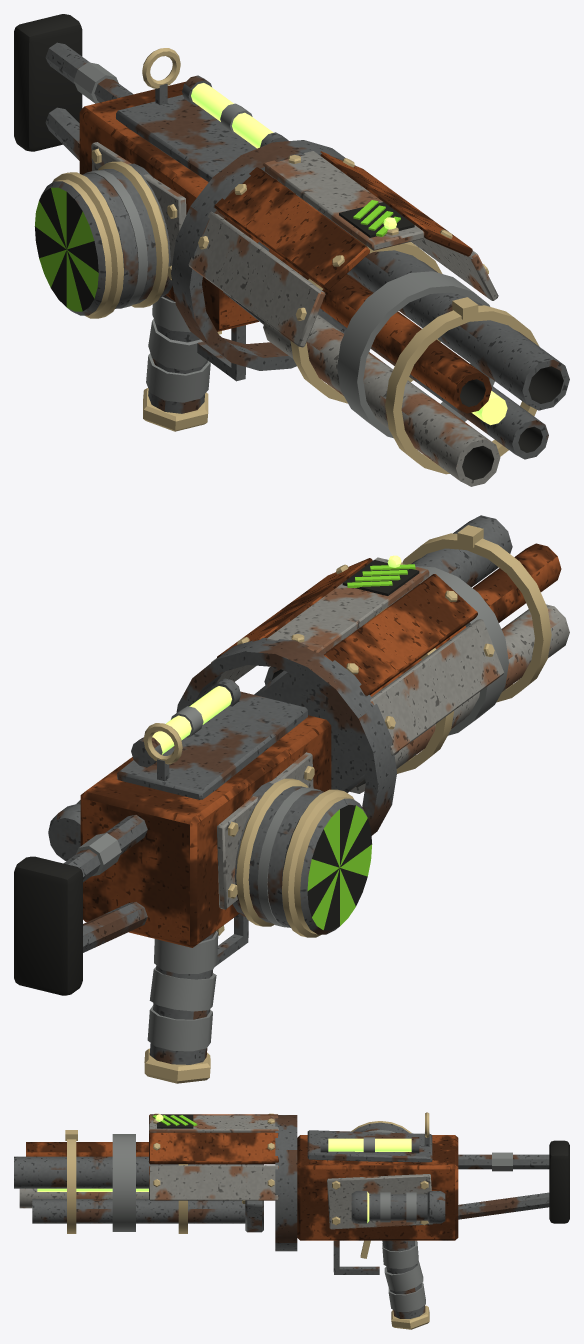
The model's file is scrap-punk-wildspark-set.glb.
The picture shows the model from 3 angles, top to bottom: view 1: azimuth 30°, elevation 25°; view 2: azimuth 150°, elevation 25°; view 3: azimuth 270°, elevation 25°; orthographic projection. The views are drawn at different scales.
Visible parts, largest first — view 1: WildsparkRepeaterReceiver, WildsparkRotor; view 2: WildsparkRepeaterReceiver, WildsparkRotor; view 3: WildsparkRepeaterReceiver, WildsparkRotor.
Part boxes in pixels (<box>): WildsparkRepeaterReceiver: <box>14,14,498,431</box>; WildsparkRotor: <box>223,194,569,486</box>; WildsparkRepeaterReceiver: <box>14,555,503,1083</box>; WildsparkRotor: <box>254,515,569,793</box>; WildsparkRepeaterReceiver: <box>149,1112,569,1329</box>; WildsparkRotor: <box>14,1130,263,1233</box>.
Size of what is drawn, in the model's own units: 0.307 by 0.4464 by 1.07.
8 materials, 3 textured.
